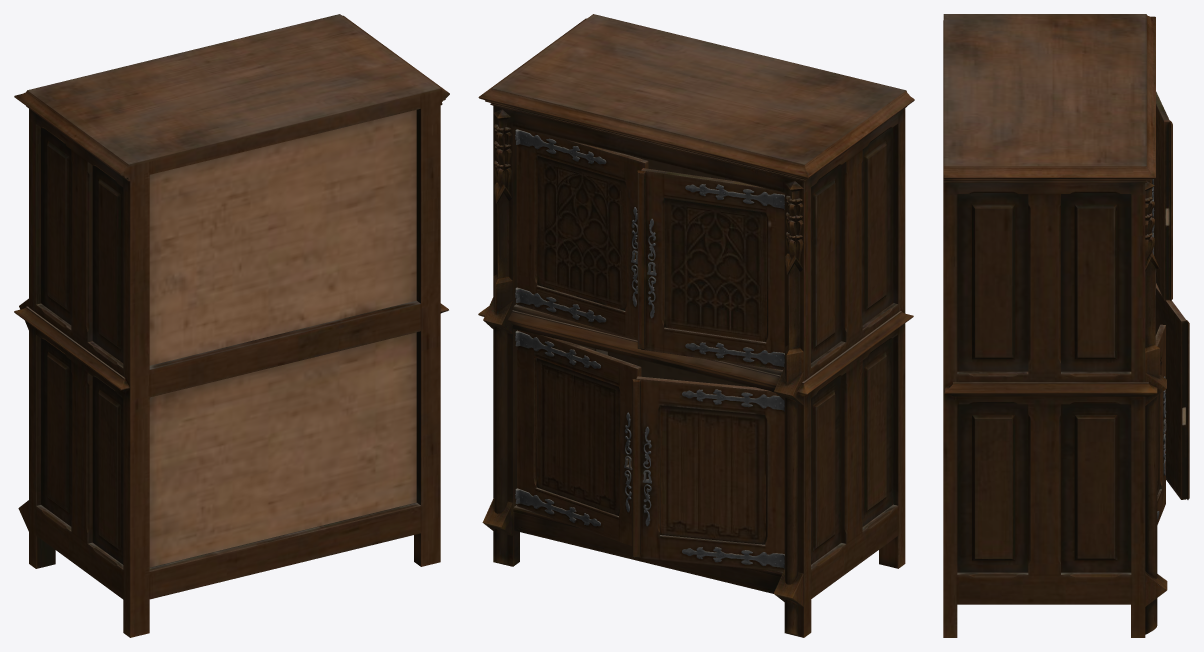
The model's file is cabinet-gothic.glb.
3 views of the same model, side by side, from view 1: azimuth 30°, elevation 25°; view 2: azimuth 150°, elevation 25°; view 3: azimuth 270°, elevation 25° (orthographic).
Parts seen in each view (by area): view 1: cabinet-gothic; view 2: cabinet-gothic; view 3: cabinet-gothic.
Part boxes in pixels (left/top/right/bottom): cabinet-gothic: left=14, top=14, right=449, bottom=637; cabinet-gothic: left=478, top=14, right=914, bottom=637; cabinet-gothic: left=943, top=14, right=1189, bottom=637.
Size of the model in its own units: 1.72 by 2.36 by 1.12.
1 material, 1 textured.
